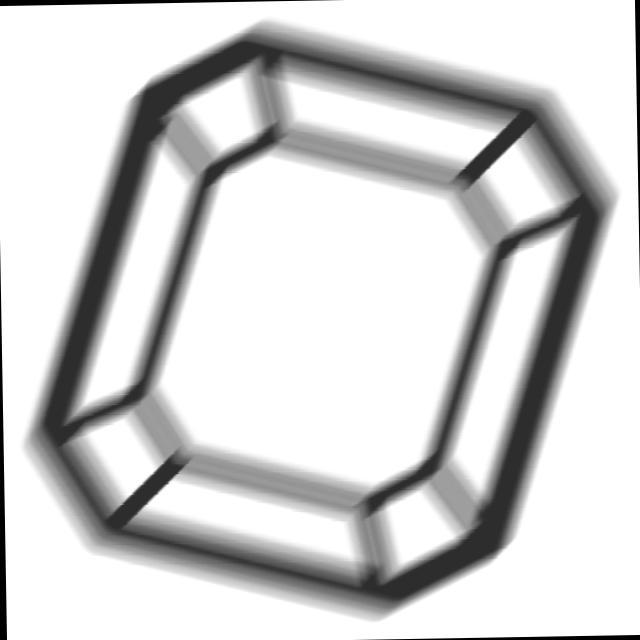emerald: (9, 9, 634, 636)
